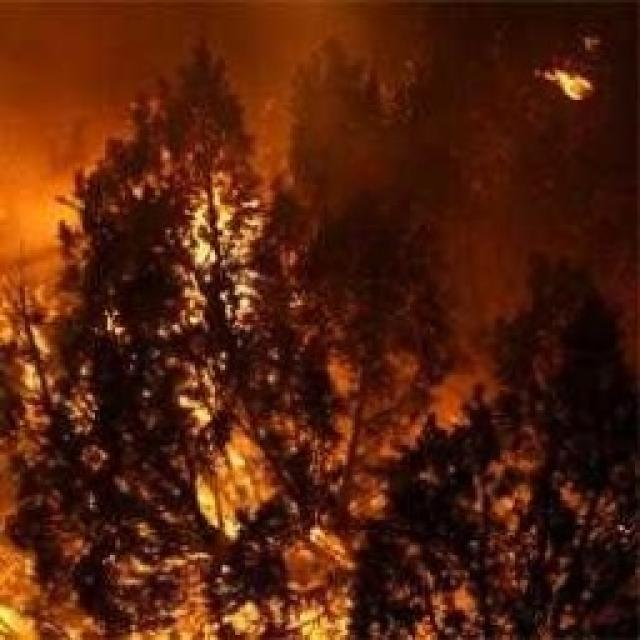Fire: (12, 83, 102, 293), (22, 479, 99, 640), (196, 434, 274, 540), (303, 560, 366, 640), (545, 69, 592, 101), (226, 602, 262, 638), (200, 477, 220, 533)
Smoke: (275, 108, 631, 384)
